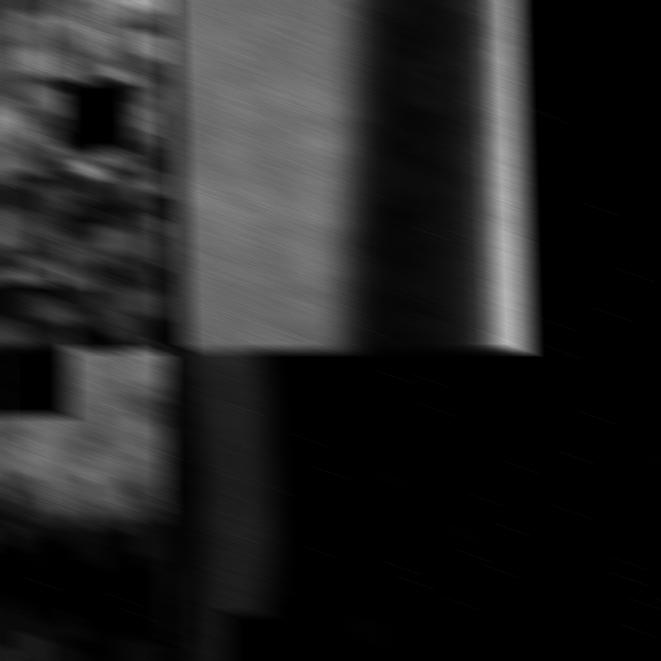AirbagV2: (160, 348, 661, 661), (160, 0, 560, 351), (0, 0, 169, 351), (0, 348, 169, 661)
